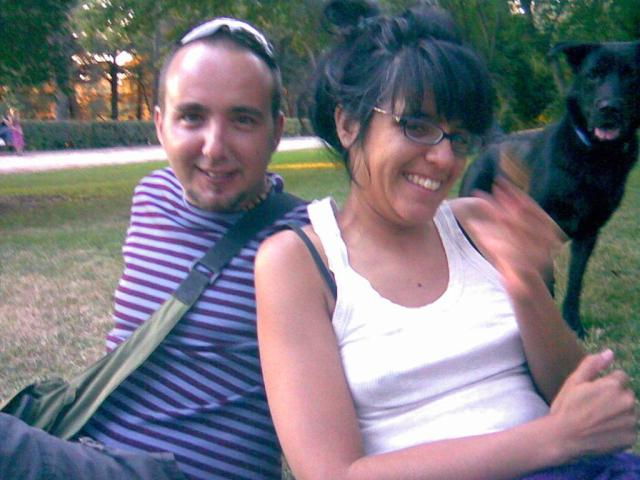Dog: (457, 37, 640, 343)
